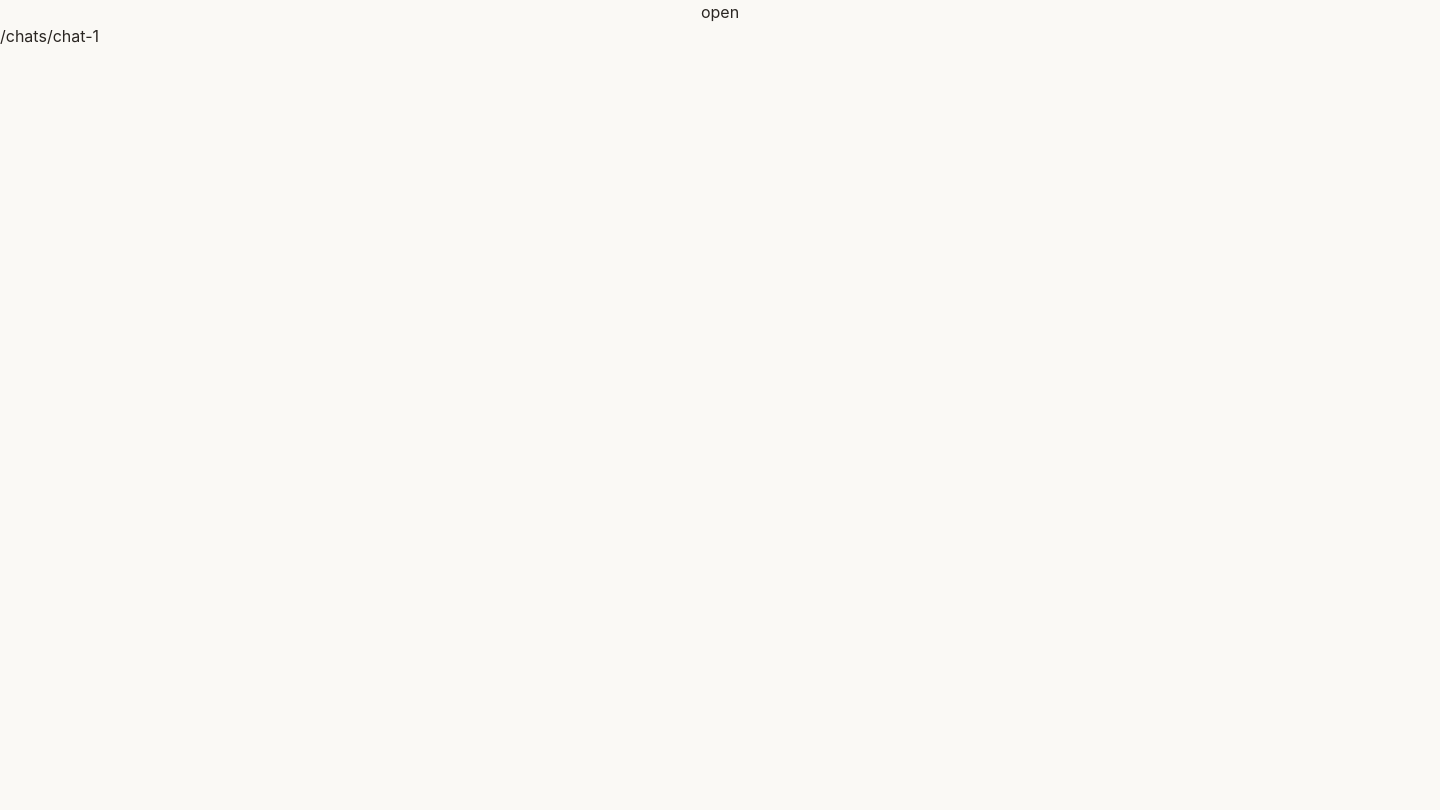
Test: CommandPalette › filters across groups and navigates as an overlay over the stage
Press k
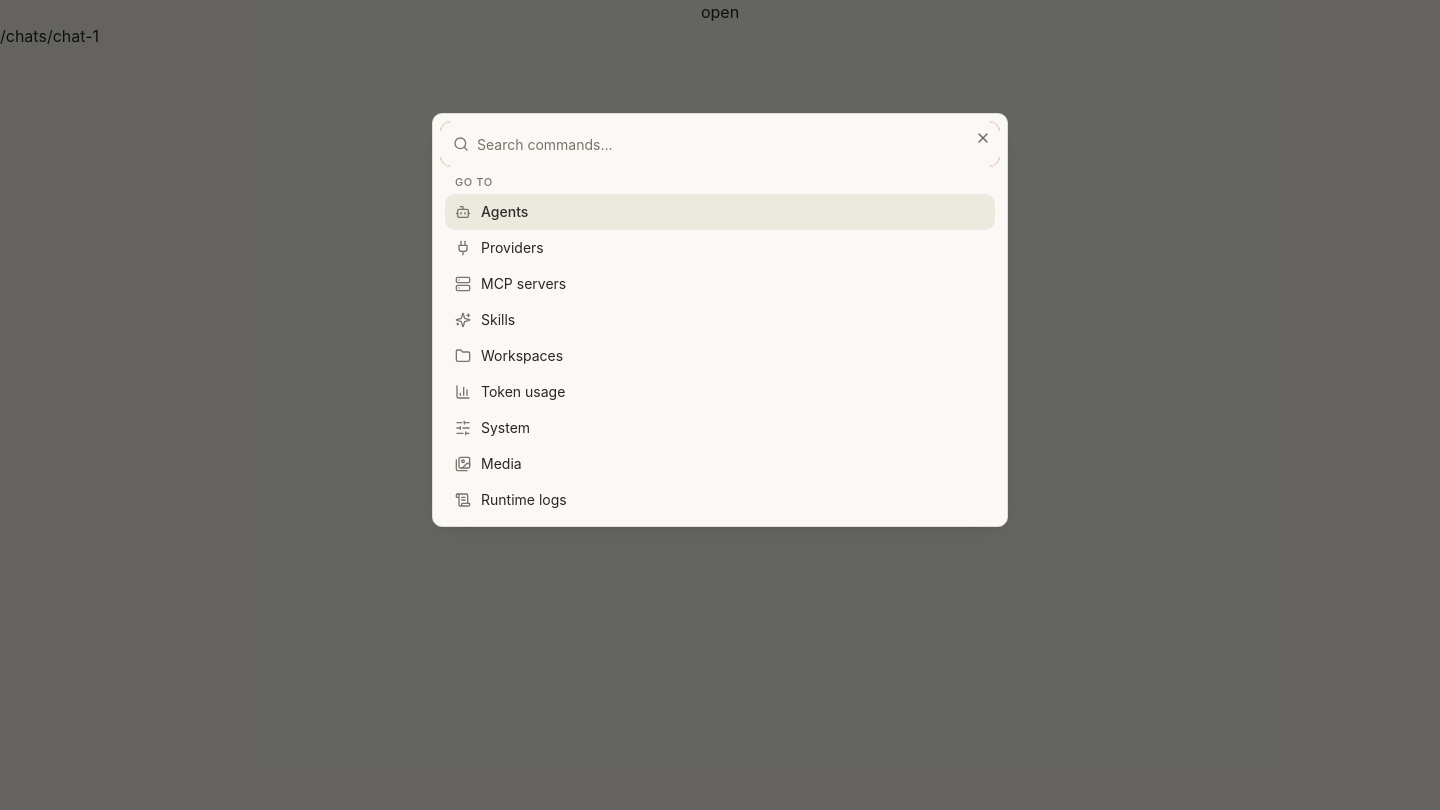
Check: the dialog is shown, box [432,113,1008,527]
Type "agent" into the field at (720, 144), box [441,122,999,166]
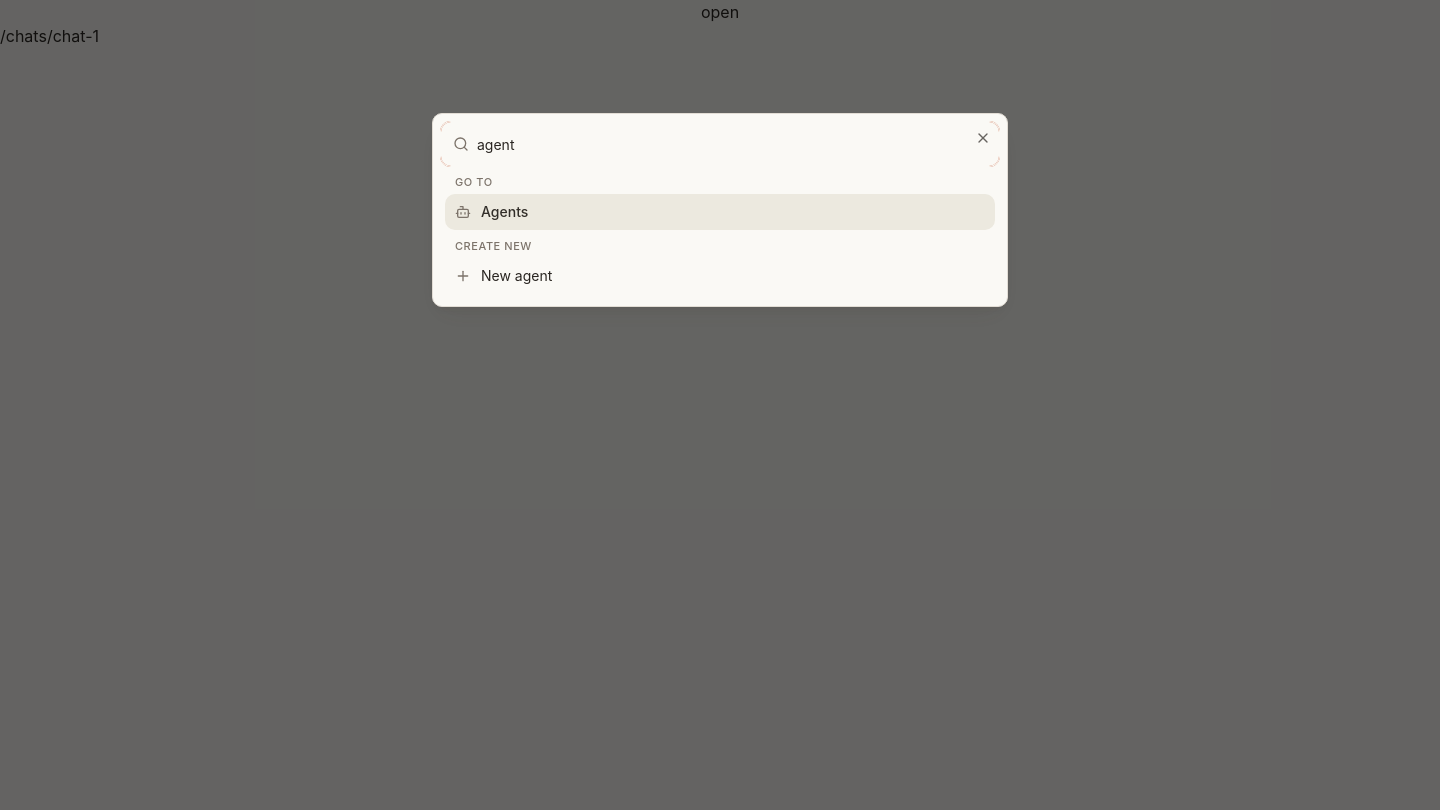
Check: the text "Agents" is shown, box [481,203,528,220]
Check: the text "New agent" is shown, box [481,267,552,284]
Check: the option no longer shows "Token usage"
Click the option "Agents" at (505, 212), box [445,194,995,230]
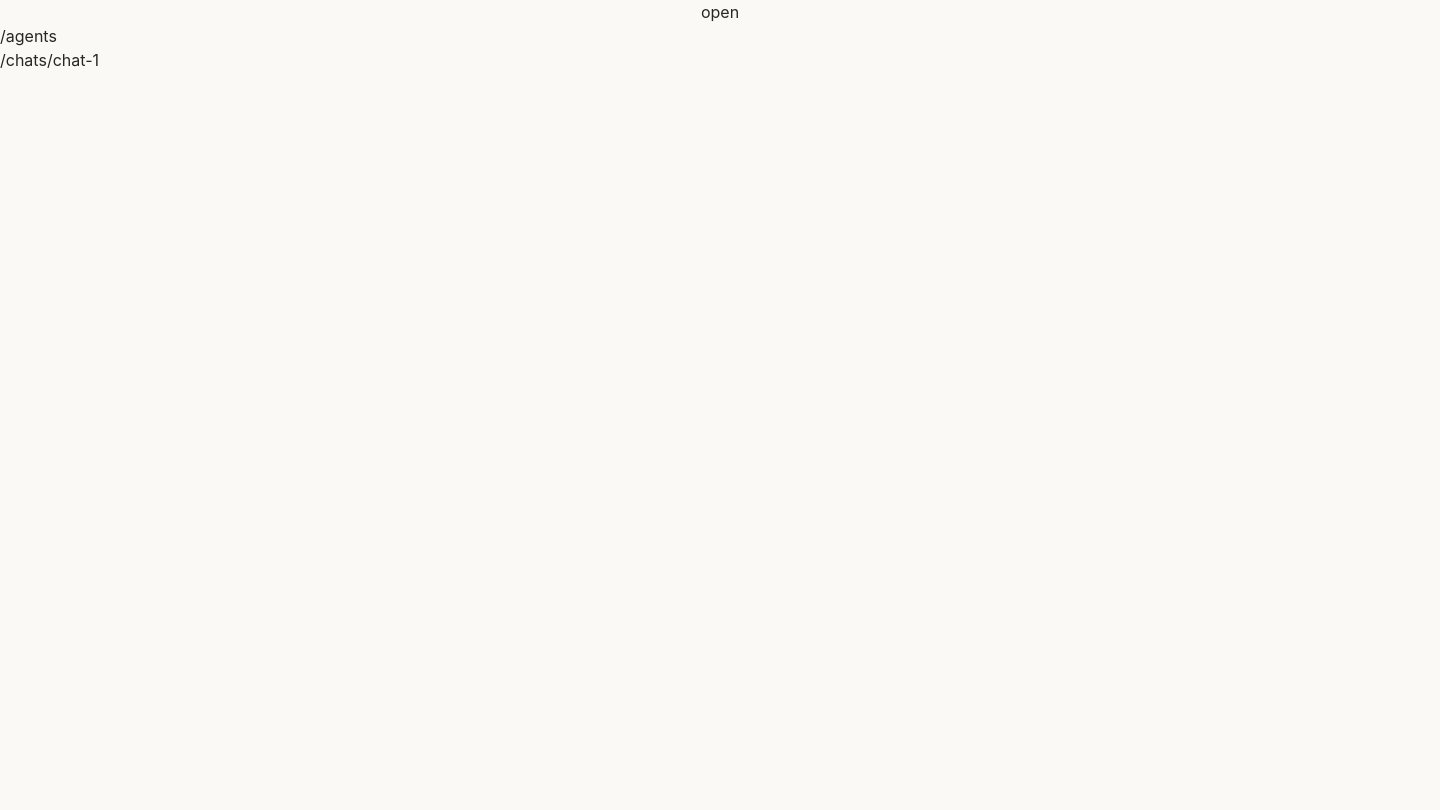
Check: the text with test id "background-location" reads "/chats/chat-1", box [0,50,99,70]
Check: the text with test id "location" reads "/agents", box [0,26,57,46]
